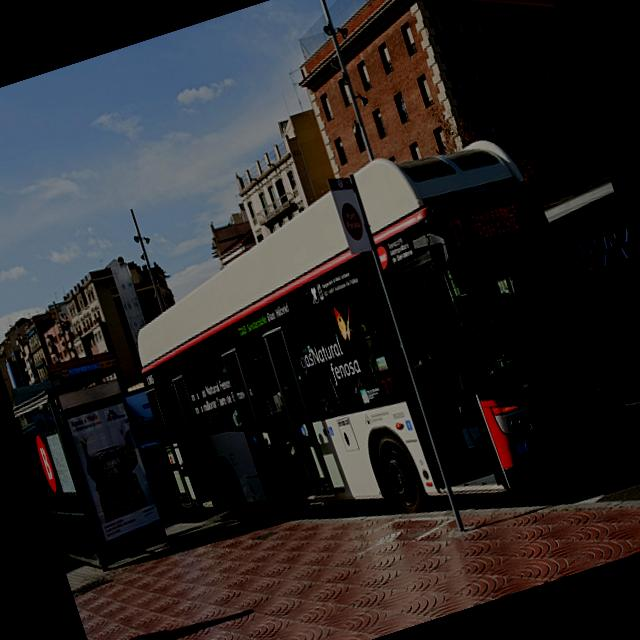Vehicle: (99, 107, 640, 588), (140, 440, 182, 509)
